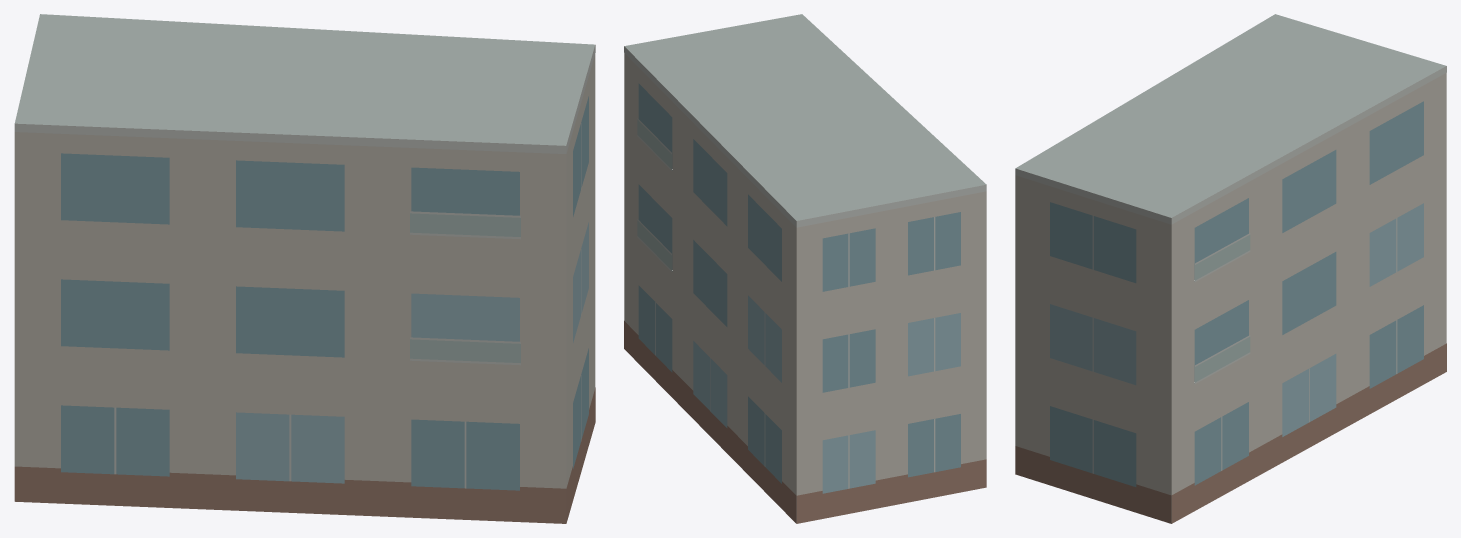
Rendered from survey-upis-32546501.glb.
3 renders of one model, left to right at view 1: azimuth 30°, elevation 25°; view 2: azimuth 150°, elevation 25°; view 3: azimuth 270°, elevation 25°, orthographic. The views are drawn at different scales.
Parts seen in each view (by area): view 1: survey-upis-32546501.tmp; view 2: survey-upis-32546501.tmp; view 3: survey-upis-32546501.tmp.
Boxes of the visible parts, <box> form: survey-upis-32546501.tmp: <box>14,14,595,523</box>; survey-upis-32546501.tmp: <box>624,14,986,523</box>; survey-upis-32546501.tmp: <box>1015,14,1446,523</box>.
Size of the model in its own units: 15.88 by 11.1 by 14.2.
